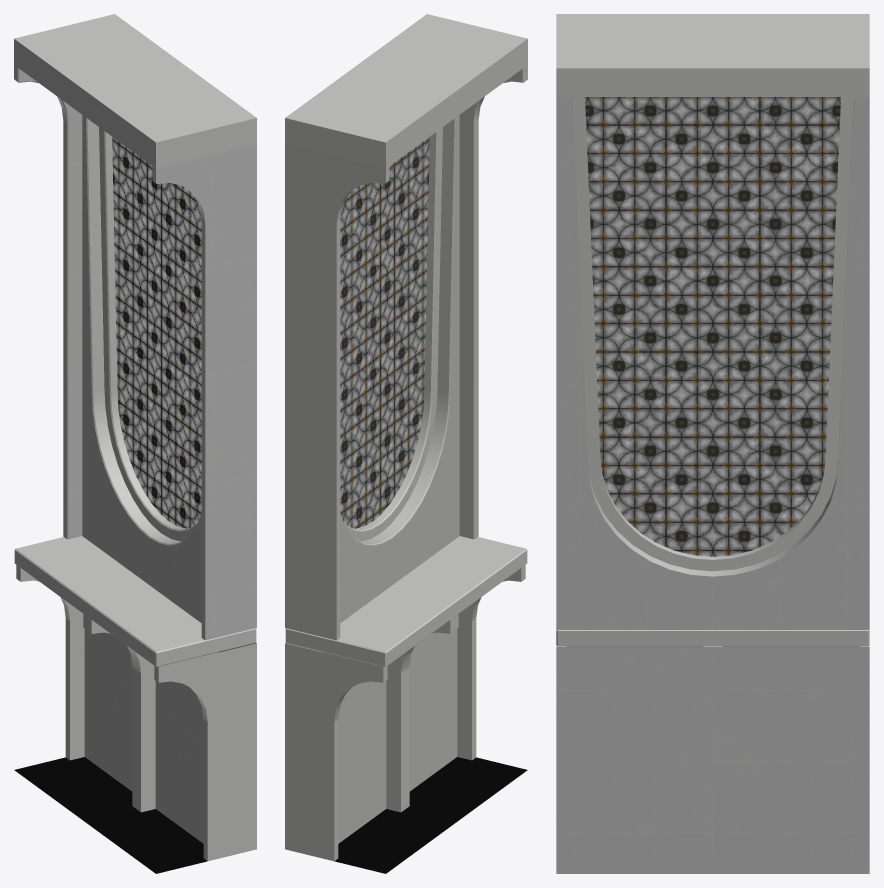
The model's file is WallWindow.fbx.
3 renders of one model, left to right at view 1: azimuth 30°, elevation 25°; view 2: azimuth 150°, elevation 25°; view 3: azimuth 270°, elevation 25°, orthographic. The views are drawn at different scales.
Parts seen in each view (by area): view 1: WallWindow, Floor, GlassInner, Pit; view 2: WallWindow, Floor, GlassInner, Pit; view 3: GlassOuter, WallWindow, Floor.
Part boxes in pixels (x1,y1,x2,y2): WallWindow: (14,14,256,640); Floor: (14,536,256,861); GlassInner: (112,137,201,528); Pit: (14,757,207,873); WallWindow: (285,14,527,640); Floor: (285,536,527,861); GlassInner: (340,137,429,528); Pit: (334,757,527,873); GlassOuter: (585,97,840,556); WallWindow: (556,14,869,629); Floor: (556,630,869,873).
Size of the model in its own units: 205 by 1420 by 500.
